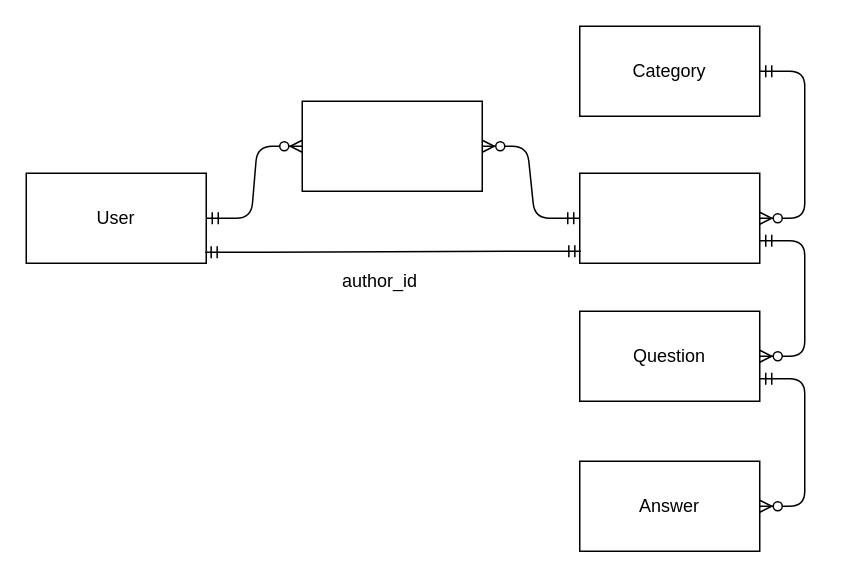
The diagram is 845 pixels wide and 578 high, and some of its shapes have lost their labels. The centre of each missing label's shape, as x and y in pixels:
Test: the point at 669,217
UserTest: the point at 391,145
